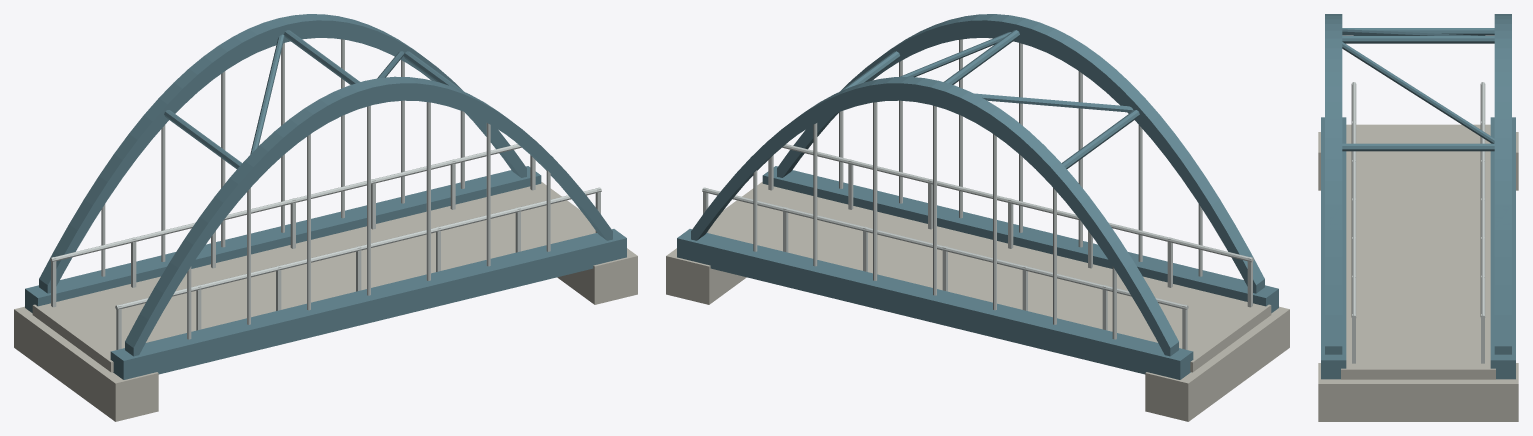
The picture shows the model from 3 angles, left to right: view 1: azimuth 30°, elevation 25°; view 2: azimuth 150°, elevation 25°; view 3: azimuth 270°, elevation 25°; orthographic projection.
Visible parts, largest first — view 1: WholeContinuousLowDeck, NearWholeLongitudinalTieBeam, NearWholeContinuousBowArchRib, FarWholeContinuousBowArchRib, FarWholeLongitudinalTieBeam, WholeTerminalPier-1, WholeTerminalPier1, FarWholeStraightDeckGuardRail, NearWholeStraightDeckGuardRail, NearWholeVerticalDeckHanger4, WholeUpperArchDiagonal0, WholeUpperArchCrossSpreader0 (+7 smaller); view 2: WholeContinuousLowDeck, FarWholeLongitudinalTieBeam, FarWholeContinuousBowArchRib, NearWholeContinuousBowArchRib, NearWholeLongitudinalTieBeam, WholeTerminalPier-1, WholeTerminalPier1, NearWholeStraightDeckGuardRail, FarWholeStraightDeckGuardRail, WholeUpperArchDiagonal0, FarWholeVerticalDeckHanger4, WholeUpperArchCrossSpreader0 (+8 smaller); view 3: WholeContinuousLowDeck, WholeTerminalPier1, NearWholeContinuousBowArchRib, FarWholeContinuousBowArchRib, NearWholeLongitudinalTieBeam, FarWholeLongitudinalTieBeam, NearWholeStraightDeckGuardRail, WholeUpperArchCrossSpreader2, FarWholeStraightDeckGuardRail, WholeUpperArchCrossSpreader1, WholeUpperArchDiagonal1, WholeUpperArchCrossSpreader0 (+2 smaller).
Boxes of the visible parts, x1,y1,x2,y2 form: WholeContinuousLowDeck: [32, 182, 595, 372]; NearWholeLongitudinalTieBeam: [110, 229, 626, 379]; NearWholeContinuousBowArchRib: [125, 76, 612, 356]; FarWholeContinuousBowArchRib: [39, 14, 526, 293]; FarWholeLongitudinalTieBeam: [25, 166, 541, 313]; WholeTerminalPier-1: [14, 306, 158, 421]; WholeTerminalPier1: [557, 248, 637, 304]; FarWholeStraightDeckGuardRail: [50, 140, 535, 262]; NearWholeStraightDeckGuardRail: [115, 187, 601, 309]; NearWholeVerticalDeckHanger4: [426, 102, 430, 280]; WholeUpperArchDiagonal0: [250, 34, 284, 154]; WholeUpperArchCrossSpreader0: [164, 110, 242, 168]; WholeContinuousLowDeck: [708, 182, 1271, 372]; FarWholeLongitudinalTieBeam: [677, 229, 1193, 379]; FarWholeContinuousBowArchRib: [691, 76, 1178, 356]; NearWholeContinuousBowArchRib: [777, 14, 1264, 293]; NearWholeLongitudinalTieBeam: [762, 166, 1278, 313]; WholeTerminalPier-1: [1145, 306, 1289, 421]; WholeTerminalPier1: [666, 248, 746, 304]; NearWholeStraightDeckGuardRail: [768, 140, 1253, 262]; FarWholeStraightDeckGuardRail: [702, 187, 1188, 309]; WholeUpperArchDiagonal0: [974, 93, 1133, 112]; FarWholeVerticalDeckHanger4: [873, 102, 877, 280]; WholeUpperArchCrossSpreader0: [1061, 110, 1139, 168]; WholeContinuousLowDeck: [1341, 124, 1495, 379]; WholeTerminalPier1: [1318, 363, 1518, 421]; NearWholeContinuousBowArchRib: [1325, 14, 1342, 354]; FarWholeContinuousBowArchRib: [1494, 14, 1511, 354]; NearWholeLongitudinalTieBeam: [1321, 117, 1346, 379]; FarWholeLongitudinalTieBeam: [1490, 117, 1515, 379]; NearWholeStraightDeckGuardRail: [1351, 82, 1356, 319]; WholeUpperArchCrossSpreader2: [1342, 143, 1494, 151]; FarWholeStraightDeckGuardRail: [1480, 82, 1485, 319]; WholeUpperArchCrossSpreader1: [1342, 36, 1494, 43]; WholeUpperArchDiagonal1: [1342, 42, 1494, 143]; WholeUpperArchCrossSpreader0: [1342, 28, 1494, 35].
Bounding box in the file's own units: 6.54 × 3.21 × 2.2.
